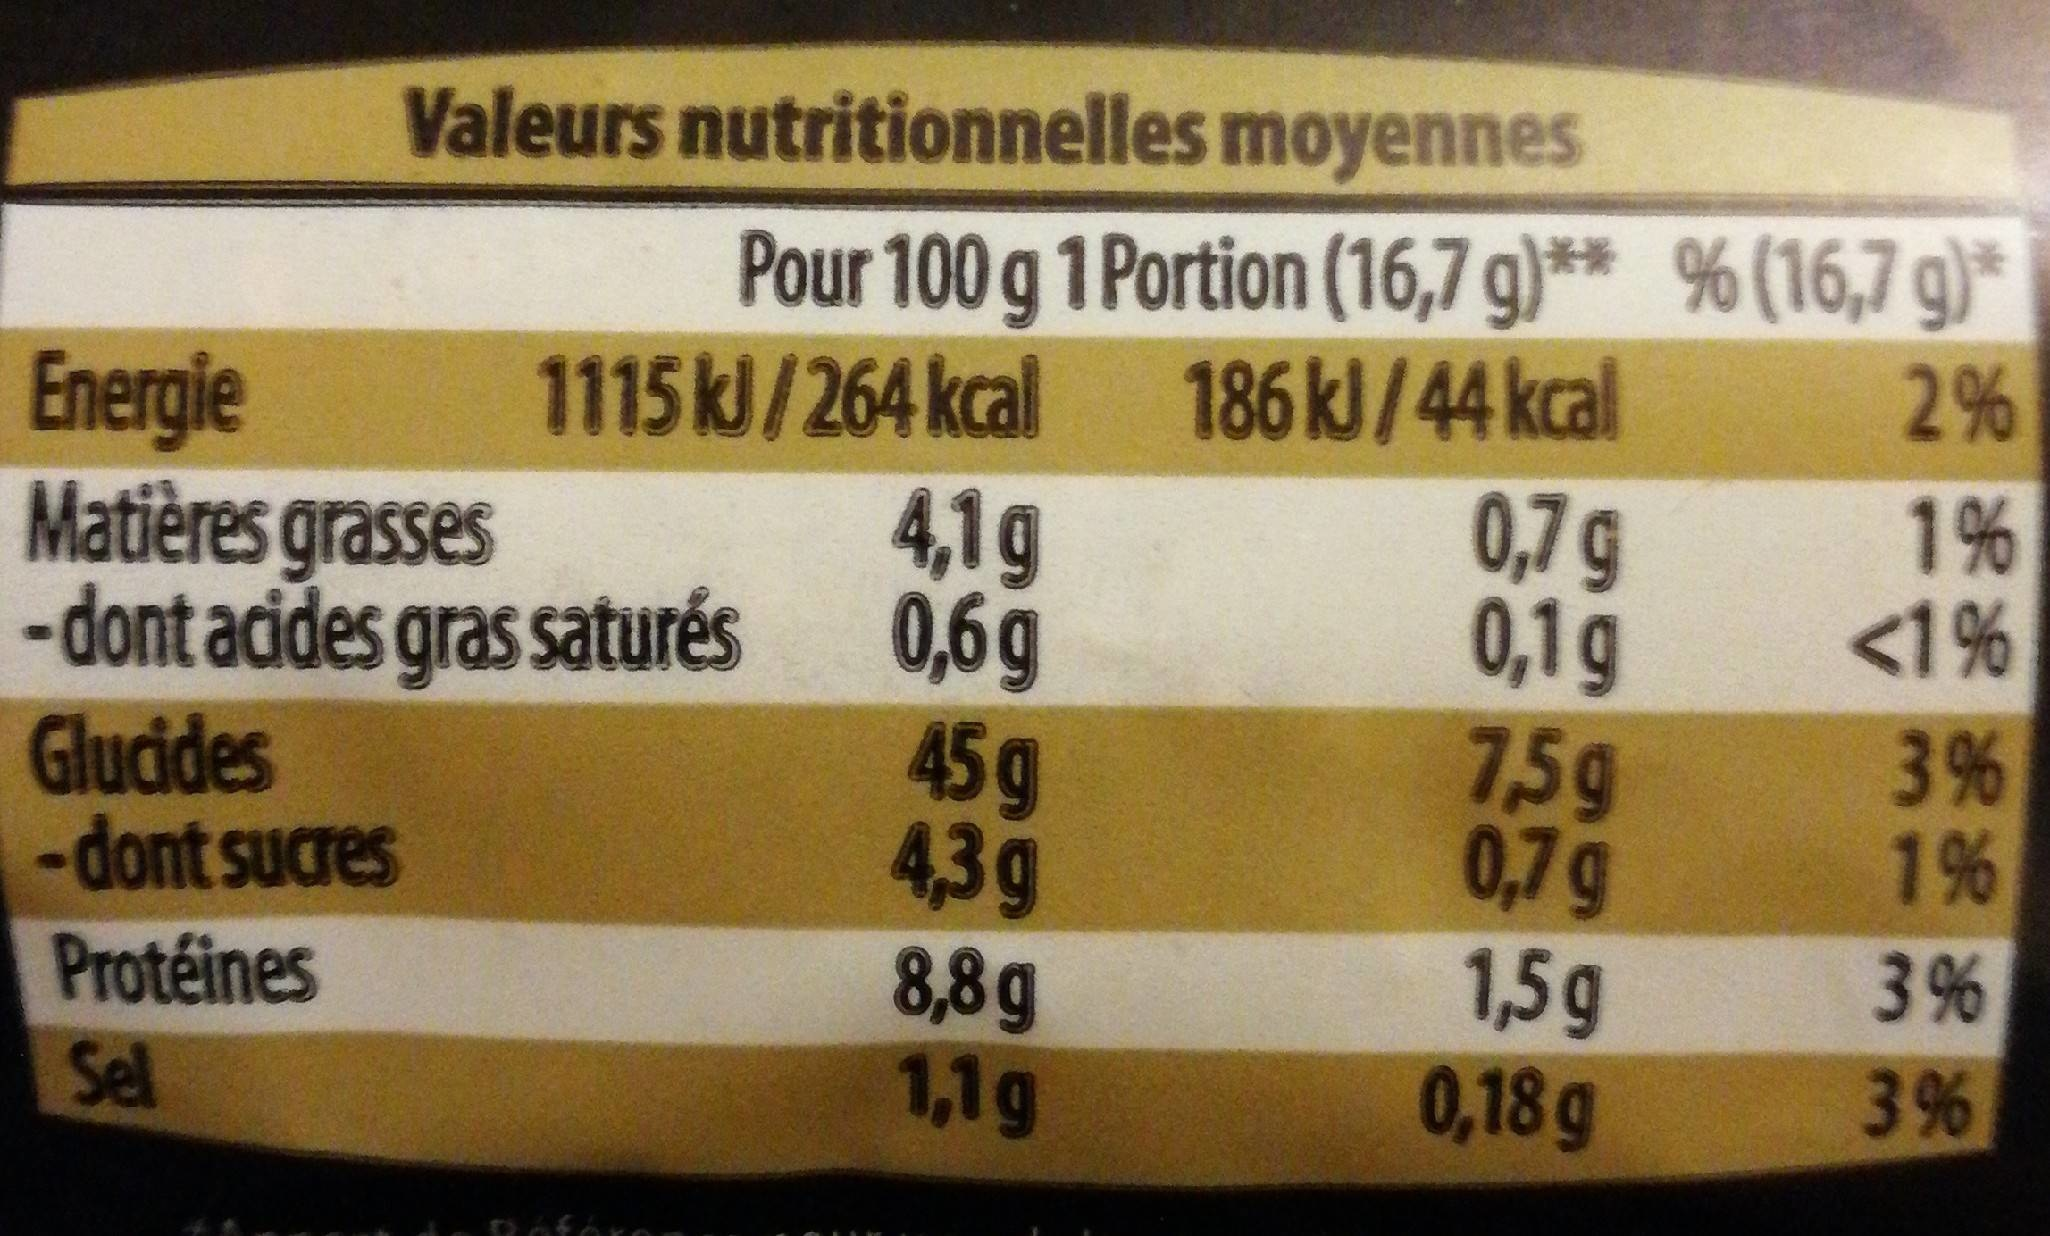column: (3, 212, 744, 1169), (1063, 209, 1625, 1174), (1646, 206, 2016, 1177), (756, 212, 1054, 1170)
table: (3, 198, 2009, 1169)
